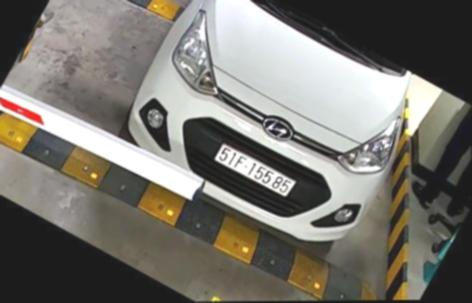License_Plate: (213, 138, 300, 208)
